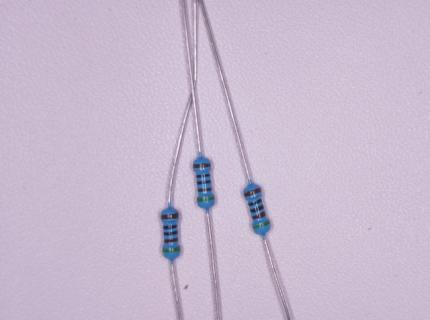Brown band: (252, 211, 265, 220), (164, 237, 178, 243), (198, 187, 211, 192)
Green band: (254, 221, 270, 229), (163, 246, 180, 253), (198, 197, 214, 202)
